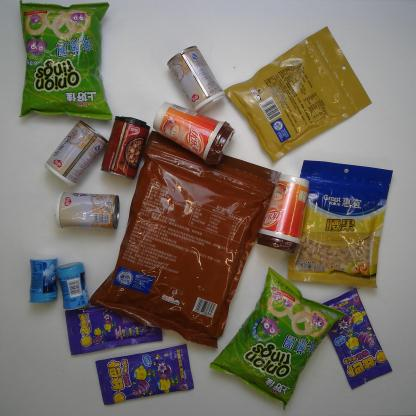Candy: (316, 283, 395, 392), (90, 343, 196, 410), (63, 301, 166, 359)
Canned Food: (42, 118, 111, 189), (165, 42, 228, 116), (98, 113, 152, 181), (53, 190, 121, 232)
Dried Food: (88, 126, 285, 352)
Dried Fruit: (222, 24, 375, 166), (285, 156, 397, 291)
Gum: (55, 260, 92, 313), (26, 256, 59, 304)
Instant Drink: (150, 98, 238, 169), (254, 171, 312, 255)
Puffed Food: (209, 266, 350, 412), (12, 0, 115, 125)
